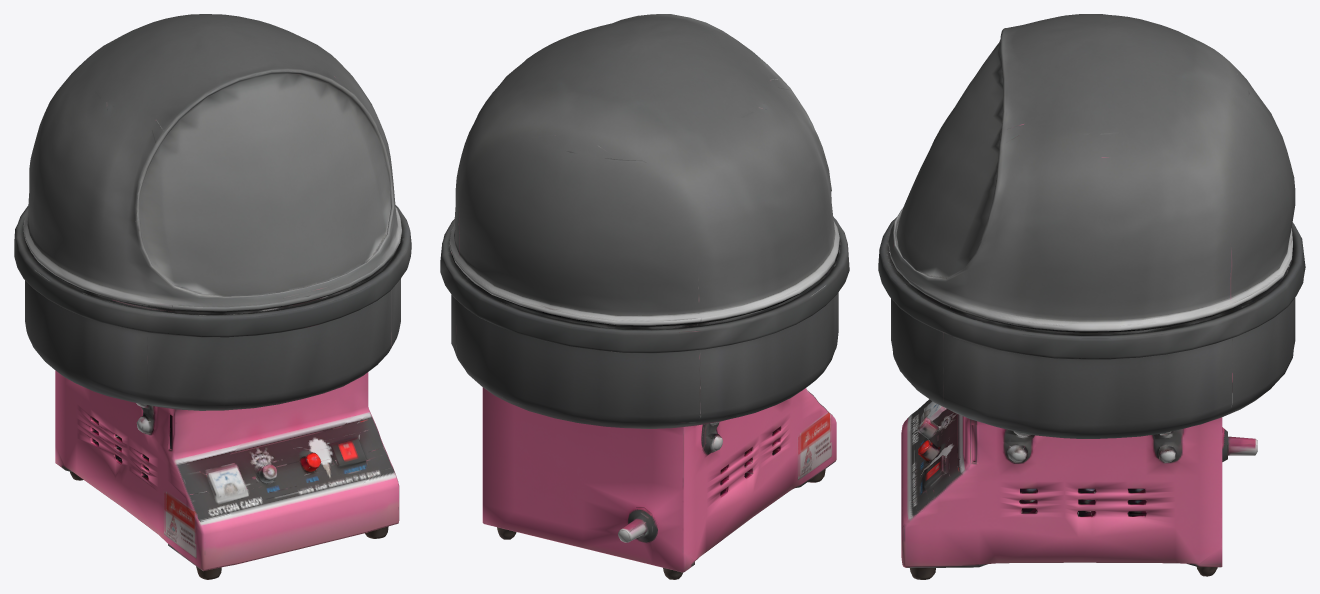
File: Cotton_Candy_Machine_24InchesTall_0215213721_texture.glb
The picture shows the model from 3 angles, left to right: view 1: azimuth 30°, elevation 25°; view 2: azimuth 150°, elevation 25°; view 3: azimuth 270°, elevation 25°; orthographic projection. The views are drawn at different scales.
Parts seen in each view (by area): view 1: Mesh_0.001; view 2: Mesh_0.001; view 3: Mesh_0.001.
Boxes of the visible parts, left/top/right/bottom form: Mesh_0.001: left=14, top=14, right=411, bottom=579; Mesh_0.001: left=440, top=14, right=849, bottom=579; Mesh_0.001: left=878, top=14, right=1305, bottom=579.
Bounding box in the file's own units: 0.4679 × 0.6096 × 0.4691.
Materials: 1 (1 with a texture image).
